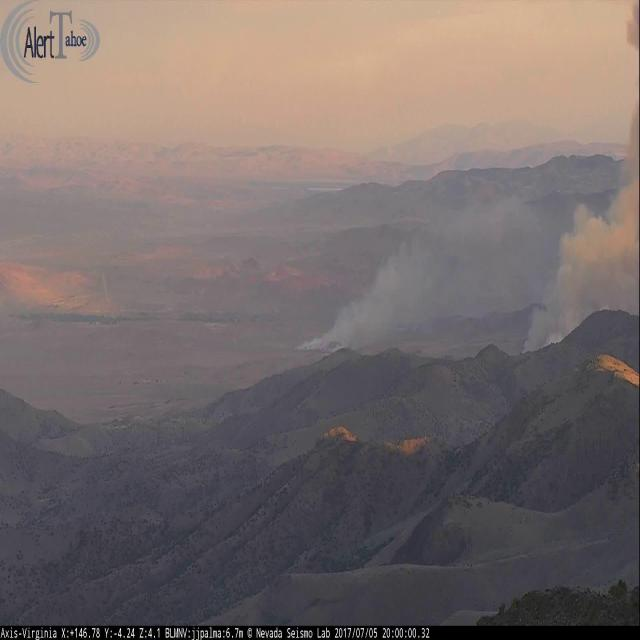smoke: (289, 195, 564, 354), (523, 0, 640, 357)
